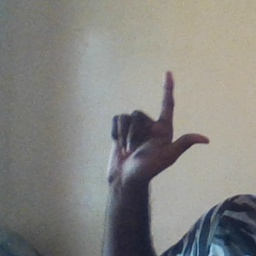L: (103, 69, 212, 181)
